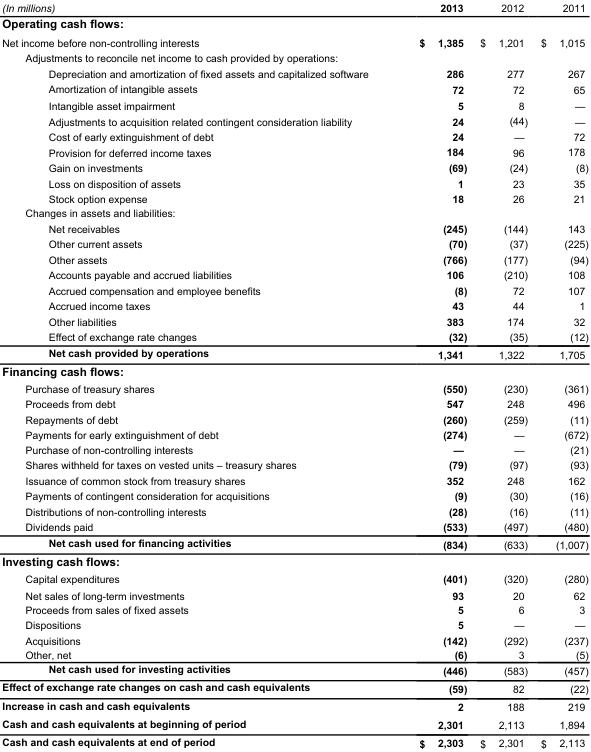table: (1, 1, 587, 748)
table column: (1, 1, 393, 748), (393, 1, 472, 748), (472, 1, 533, 748), (533, 1, 587, 748)
table column header: (1, 1, 587, 14)
table projected row header: (1, 14, 587, 33), (1, 551, 587, 569), (1, 362, 587, 379), (1, 49, 587, 65), (1, 205, 587, 220)
table row: (1, 14, 587, 33), (1, 344, 587, 362), (1, 551, 587, 569), (1, 678, 587, 696), (1, 696, 587, 714), (1, 714, 587, 732), (1, 80, 587, 97), (1, 362, 587, 379), (1, 379, 587, 396), (1, 534, 587, 551), (1, 569, 587, 586), (1, 661, 587, 678), (1, 33, 587, 49), (1, 49, 587, 65), (1, 97, 587, 113), (1, 128, 587, 144), (1, 159, 587, 175), (1, 235, 587, 251), (1, 266, 587, 282), (1, 297, 587, 313), (1, 328, 587, 344), (1, 411, 587, 427), (1, 456, 587, 472), (1, 487, 587, 503), (1, 518, 587, 534), (1, 586, 587, 602), (1, 732, 587, 748), (1, 65, 587, 80), (1, 113, 587, 128), (1, 144, 587, 159), (1, 175, 587, 190), (1, 190, 587, 205), (1, 205, 587, 220), (1, 220, 587, 235), (1, 251, 587, 266), (1, 282, 587, 297), (1, 313, 587, 328), (1, 396, 587, 411), (1, 441, 587, 456), (1, 472, 587, 487), (1, 503, 587, 518), (1, 602, 587, 617), (1, 617, 587, 632), (1, 632, 587, 647), (1, 427, 587, 441), (1, 647, 587, 661), (1, 1, 587, 14)
